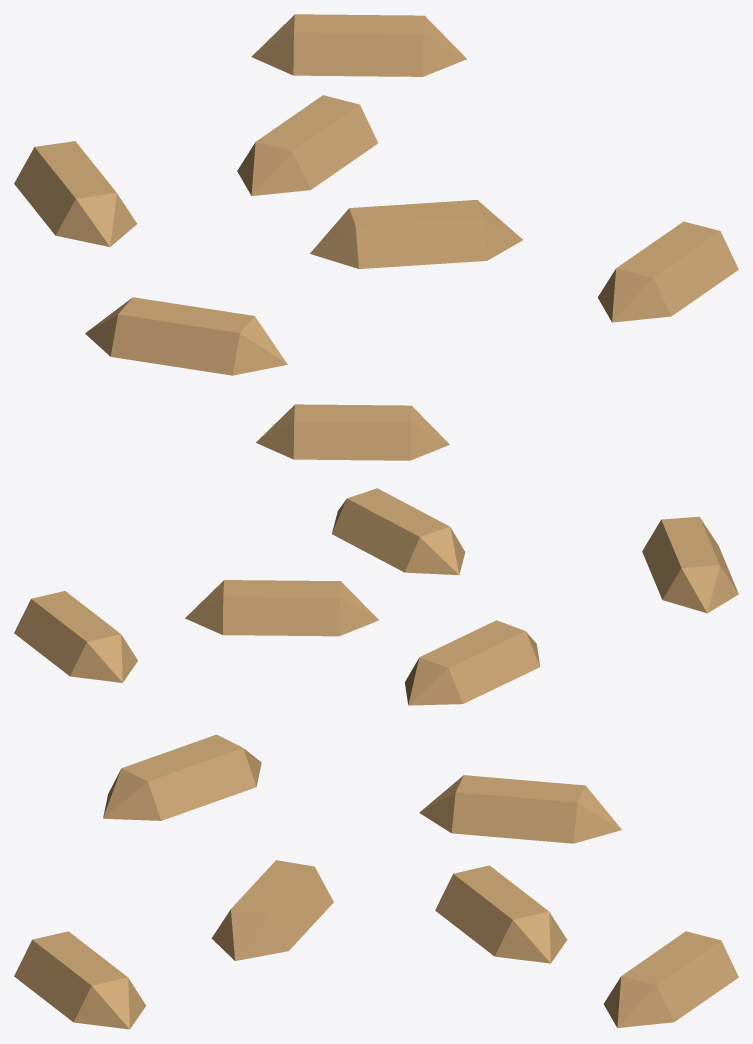
File: Seeds(Pickup).fbx
3 views of the same model, one above another, from view 1: azimuth 30°, elevation 25°; view 2: azimuth 150°, elevation 25°; view 3: azimuth 270°, elevation 25° (orthographic). The views are drawn at different scales.
Visible parts, largest first — view 1: Seeds; view 2: Seeds; view 3: Seeds.
Boxes of the visible parts, left/top/right/bottom form: Seeds: left=14, top=14, right=738, bottom=375; Seeds: left=14, top=404, right=738, bottom=705; Seeds: left=14, top=734, right=738, bottom=1029.
Bounding box in the file's own units: 38.42 × 2.17 × 43.73.
